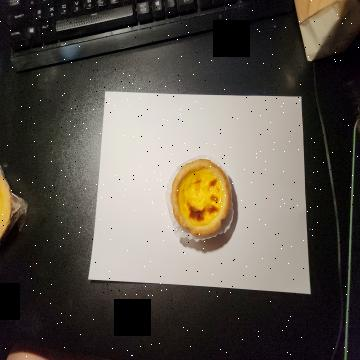EggTart: (171, 158, 231, 233)
